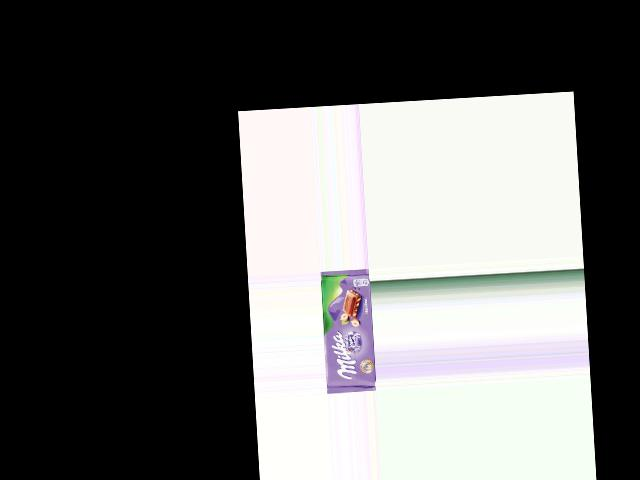chocolate: (320, 268, 377, 393)
